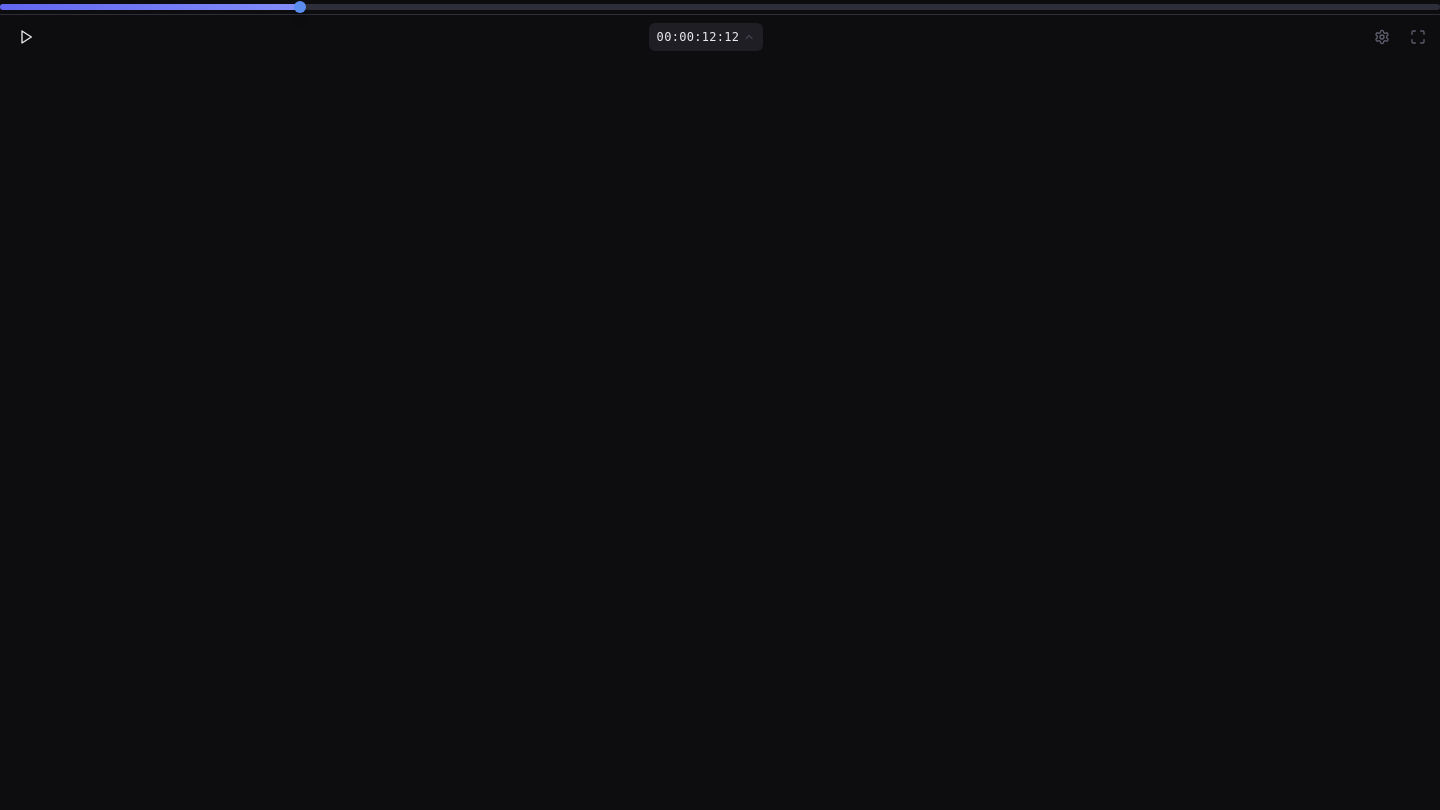
Test: §228 — the settings sheet › leaves out the rows whose control does not exist on this asset
Click the button with test id "player-settings-button".
click(1382, 36)  # box top-left (1364, 14), bottom-right (1400, 58)
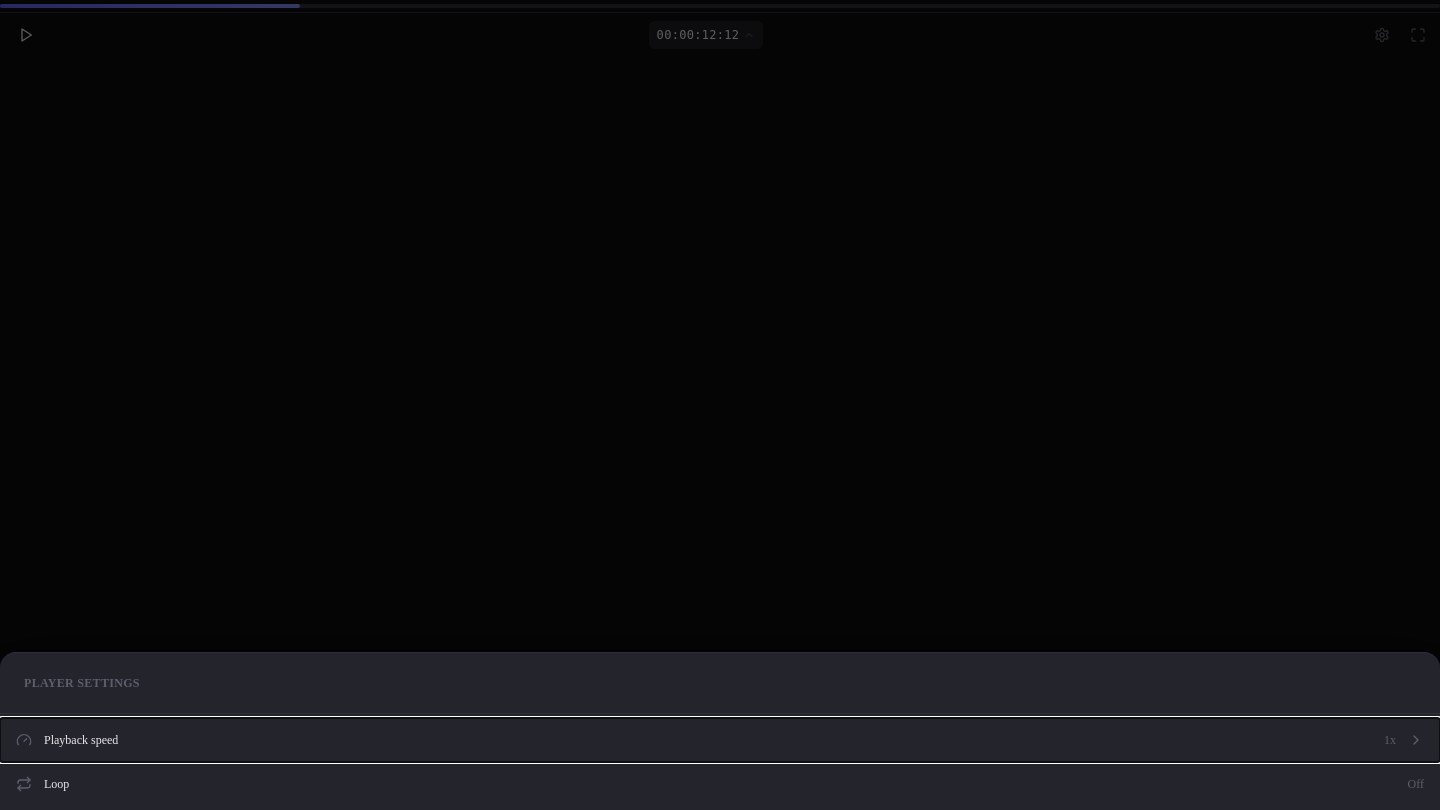
Result: the button with test id "sheet-row-speed" is shown at top-left (0, 718), bottom-right (1439, 762)
Result: the button with test id "sheet-row-loop" is shown at top-left (0, 762), bottom-right (1439, 806)
